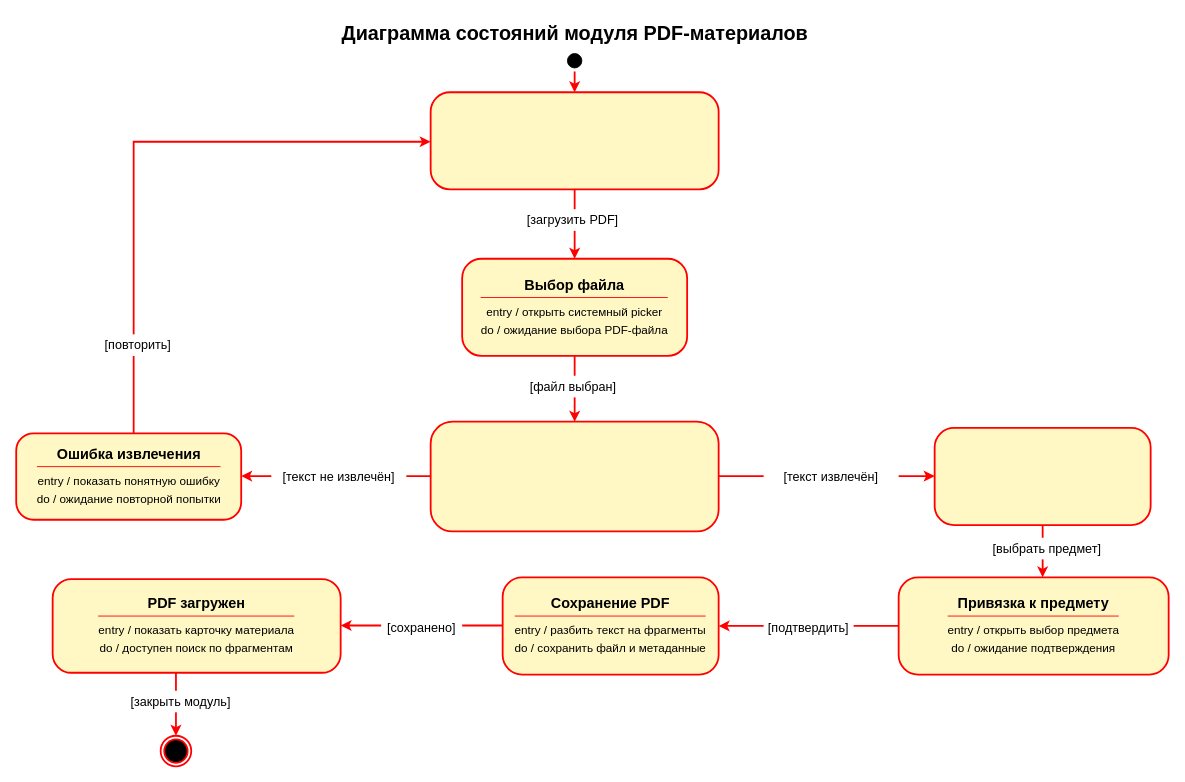
The diagram is 1185 pixels wide and 782 high, and some of its shapes have lost their labels. Each missing label, with the centre of its shape:
"PDF обработан entry / показать статус загрузки do / отобразить число символов" goes at [1042,476].
"Извлечение текста entry / получить файл do / извлечь текст и посчитать символы" goes at [574,476].
"Ожидание действия entry / открыть PDF-модуль do / ожидание команды загрузить PDF" goes at [574,140].
